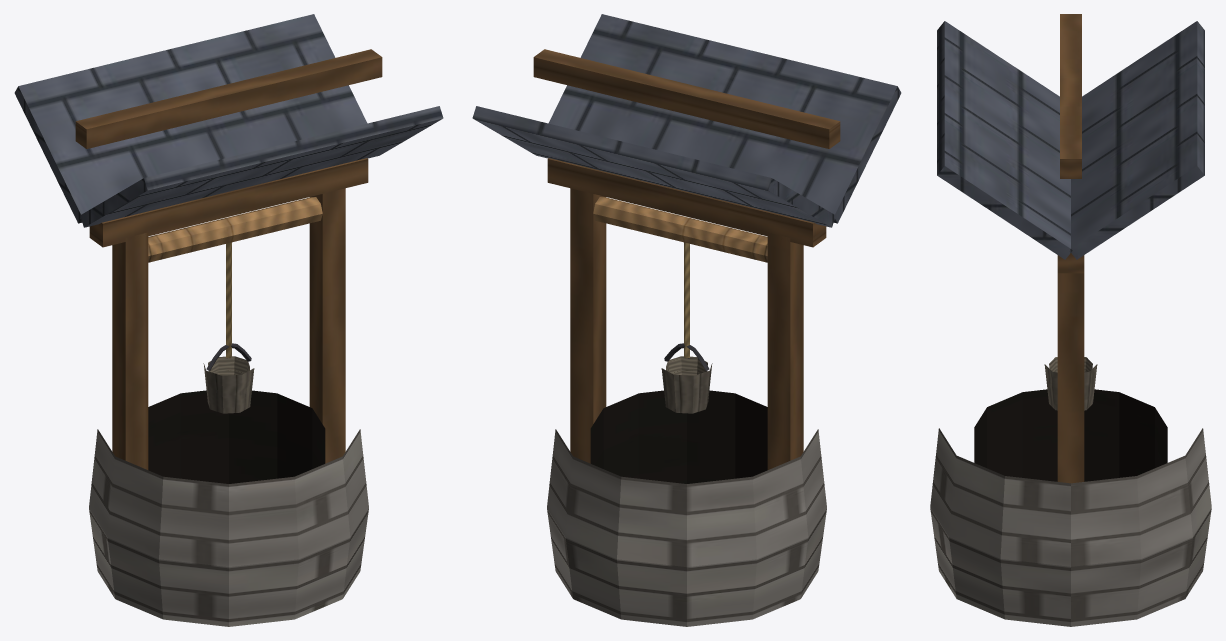
File: prop_put.glb
3 renders of one model, left to right at view 1: azimuth 30°, elevation 25°; view 2: azimuth 150°, elevation 25°; view 3: azimuth 270°, elevation 25°, orthographic.
Parts seen in each view (by area): view 1: prop_put; view 2: prop_put; view 3: prop_put.
Part boxes in pixels (x1,y1,x2,y2): prop_put: [14, 14, 443, 626]; prop_put: [472, 14, 901, 626]; prop_put: [930, 14, 1211, 626].
Size of the model in its own units: 0.78 by 1.22 by 0.64.
1 material, 1 textured.
